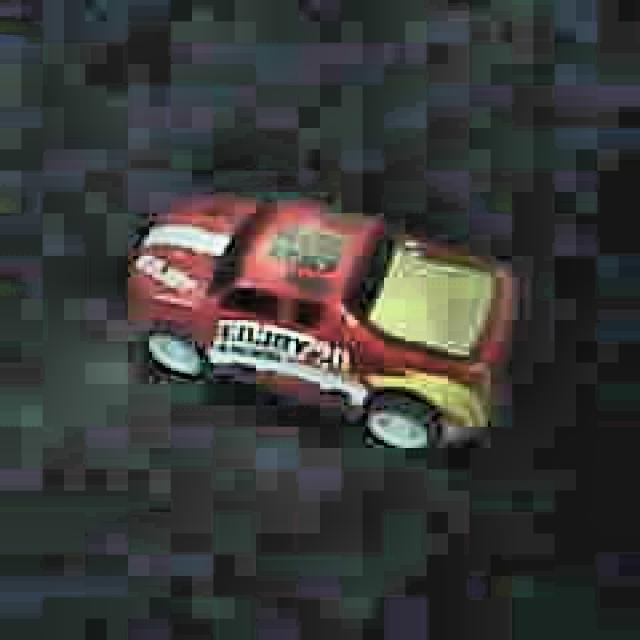car: (119, 182, 522, 461)
